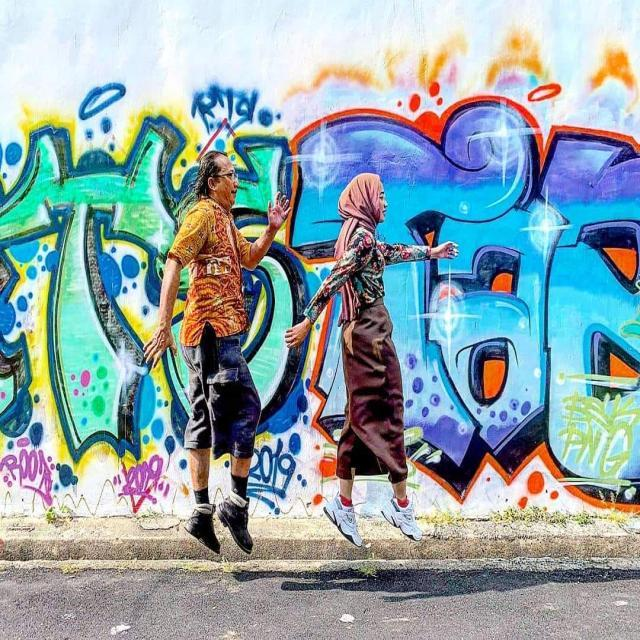-: (0, 27, 640, 516)
